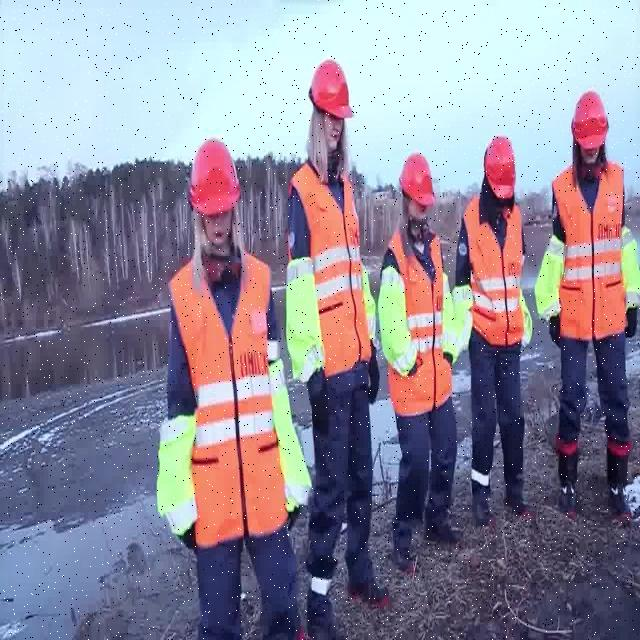Hard_hat: (181, 138, 245, 219), (300, 58, 358, 116), (562, 92, 615, 155), (478, 132, 524, 197), (398, 149, 442, 206)
Person: (152, 136, 283, 640), (282, 56, 368, 640), (539, 86, 638, 533), (451, 135, 532, 526), (381, 153, 448, 566)
Vest: (173, 250, 286, 550), (548, 158, 635, 345), (293, 166, 361, 394), (384, 230, 445, 414), (461, 193, 528, 349)
